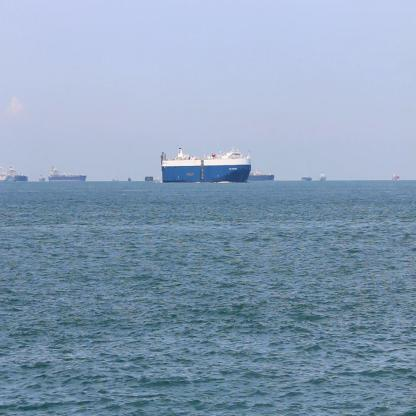Container Ship: (160, 148, 254, 186), (48, 165, 88, 182), (248, 166, 274, 184), (6, 168, 29, 184), (34, 171, 45, 185), (390, 169, 400, 184), (0, 169, 8, 187), (318, 170, 327, 186), (300, 174, 312, 183), (113, 175, 121, 187), (125, 173, 131, 186)
